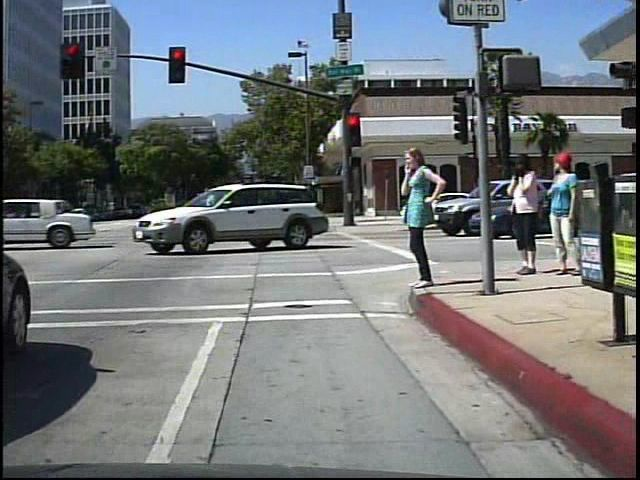person: (395, 144, 444, 294), (498, 148, 541, 277), (540, 146, 583, 272)
